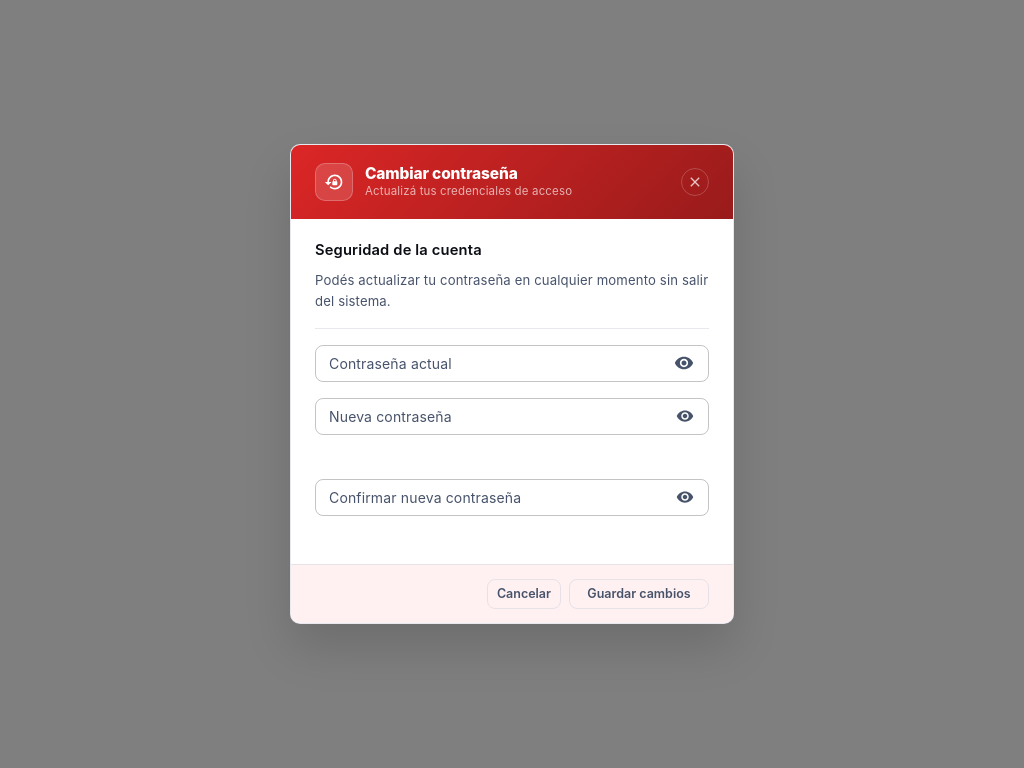
Test: ChangePasswordModal › muestra validación cuando las contraseñas no coinciden
Type "Actual#123" into the password field labelled "Contraseña actual" at (488, 363), box [315, 344, 662, 382]
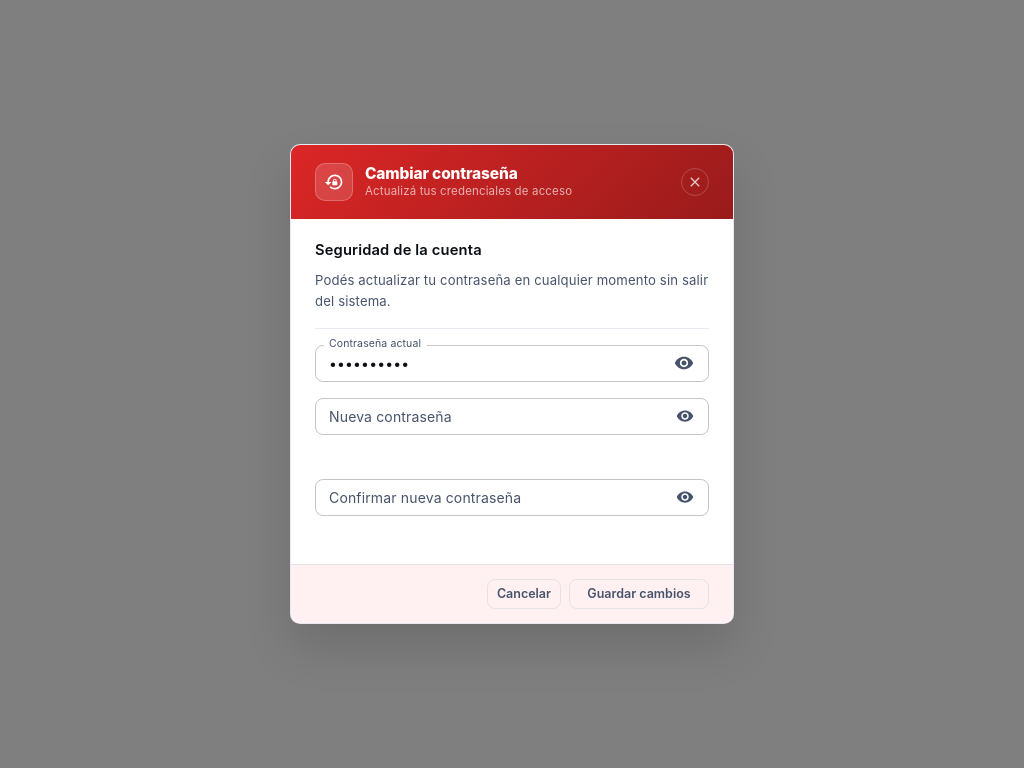
Type "Nueva#123" into the password field labelled "Nueva contraseña" at (490, 416), box [315, 398, 664, 435]
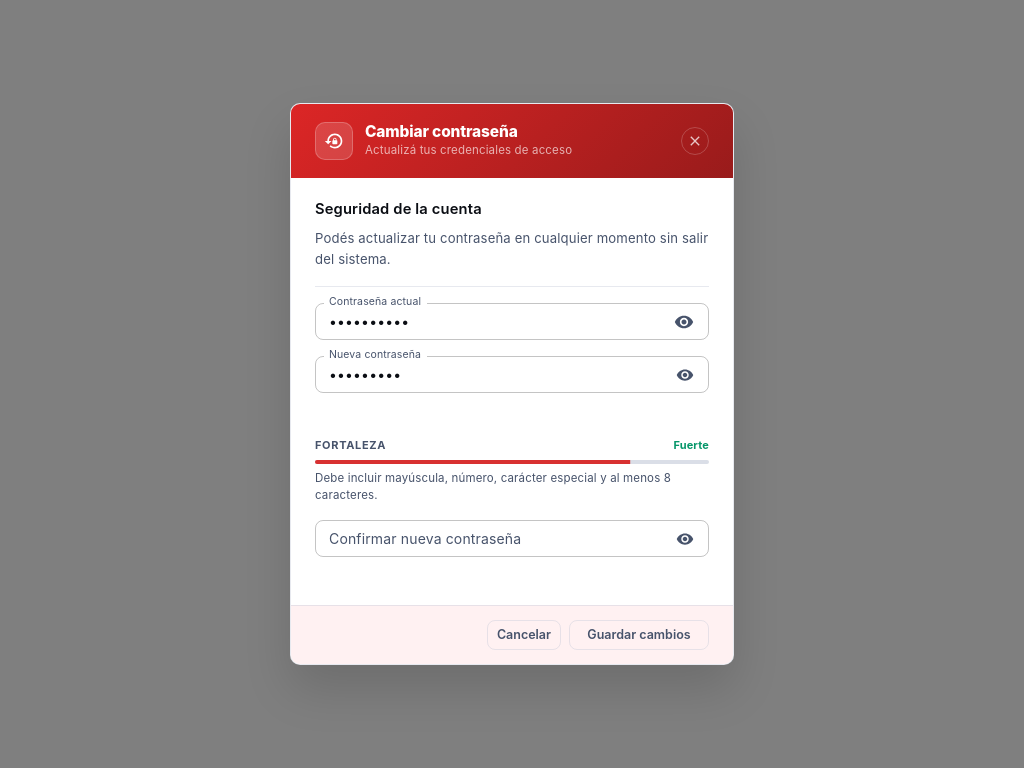
Type "Nueva#999" into the password field labelled "Confirmar nueva contraseña" at (490, 539), box [315, 520, 664, 557]
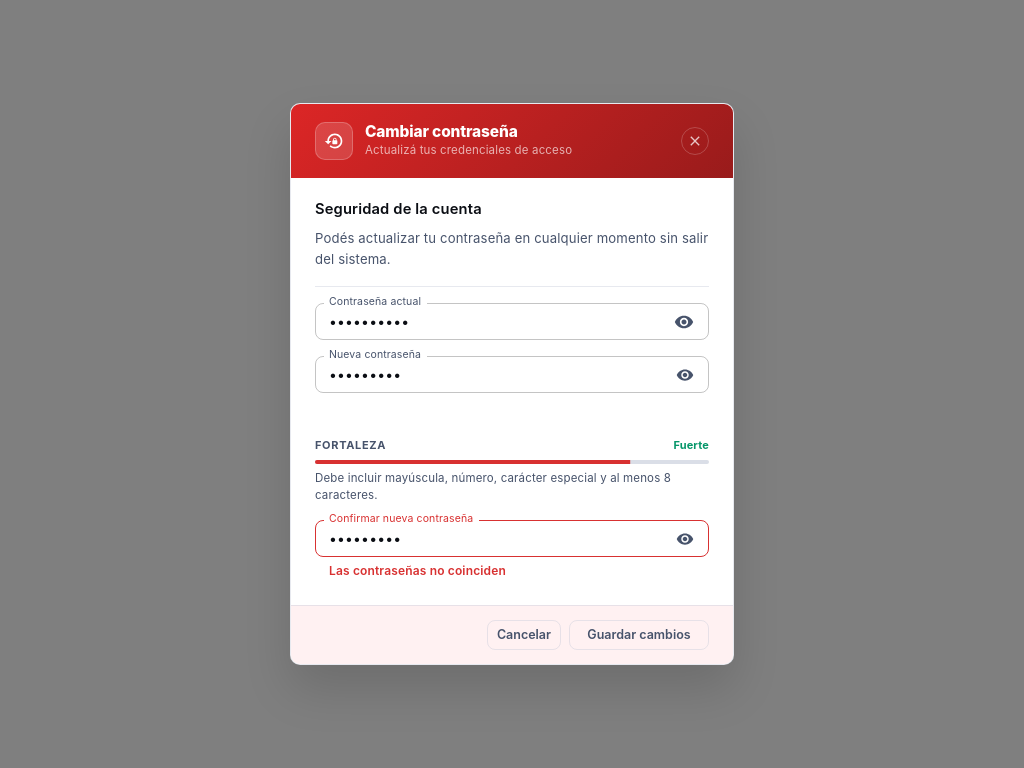
Click the button "Guardar cambios" at (639, 635), box [569, 620, 709, 650]
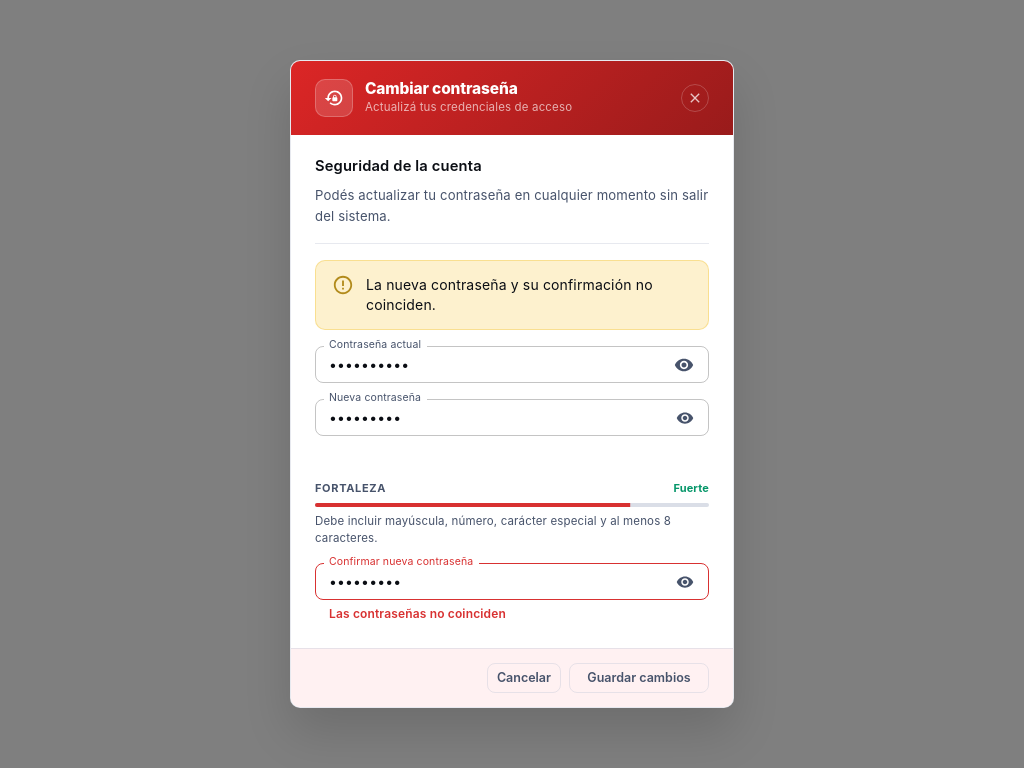
Expected: the text "La nueva contraseña y su confirmación no coinciden." is shown, [366, 267, 692, 323]
